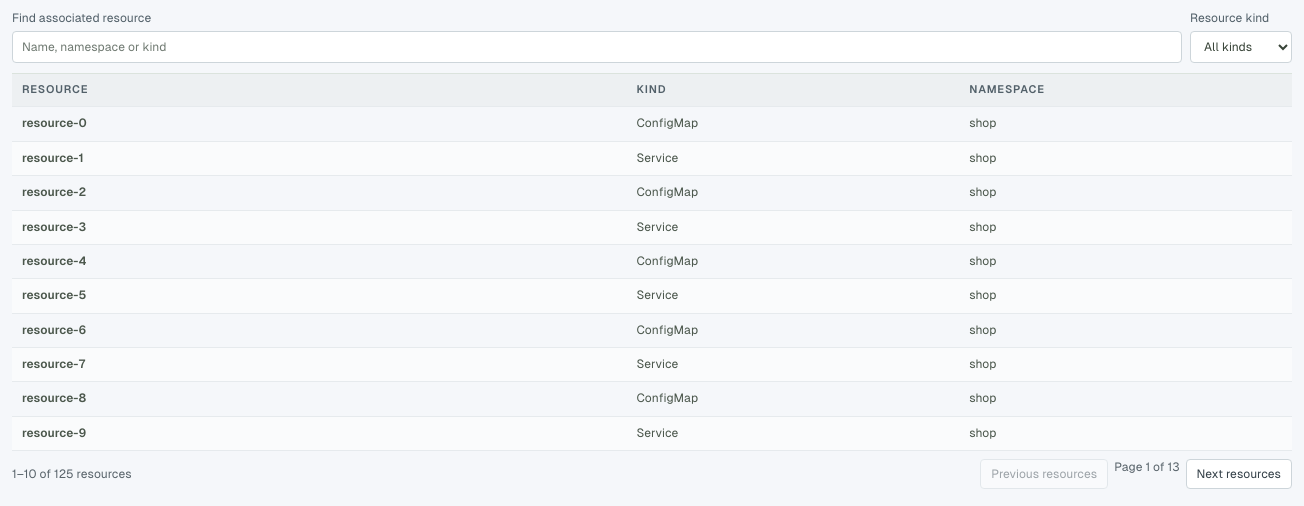
Test: filters by resource kind and gives a clear empty result
The width and height of the screenshot is (1304, 506).
Select "Service" in the dropdown labelled "Resource kind" at (1241, 47), box x1=1190 y1=31 x2=1292 y2=63
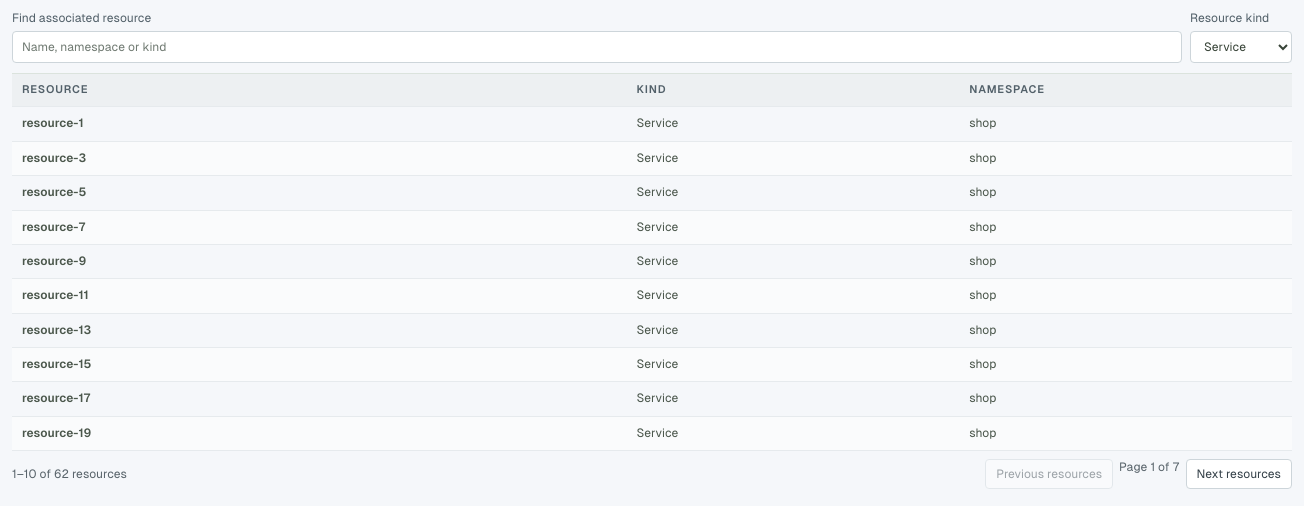
Type "not-found" into the search field at (597, 47), box x1=12 y1=31 x2=1182 y2=63
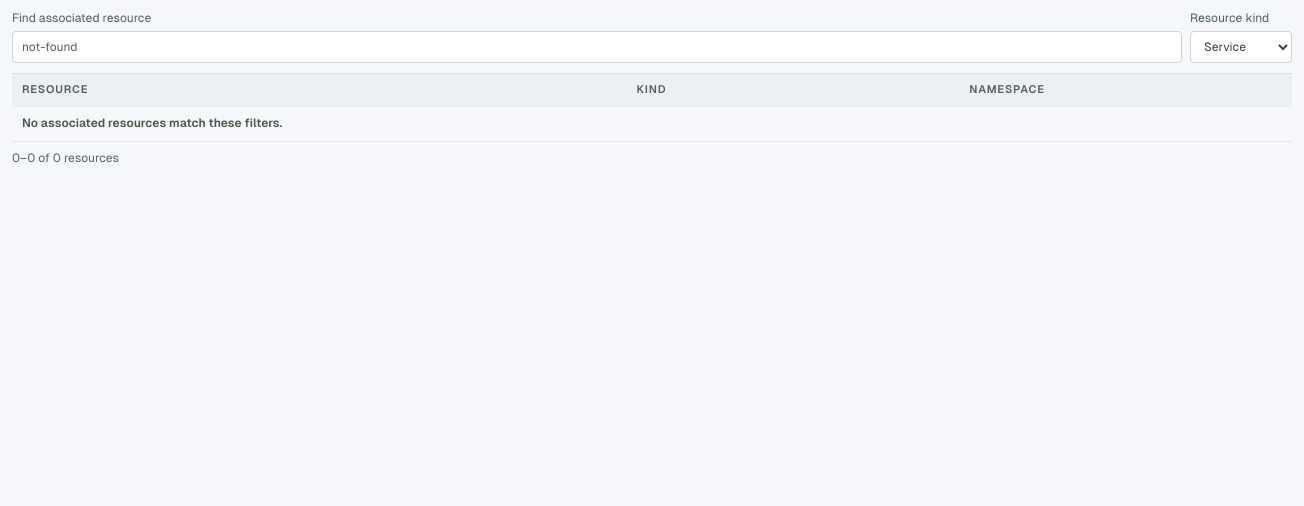
Expected: the text "No associated resources match these filters." is shown, x1=12 y1=107 x2=1292 y2=141
